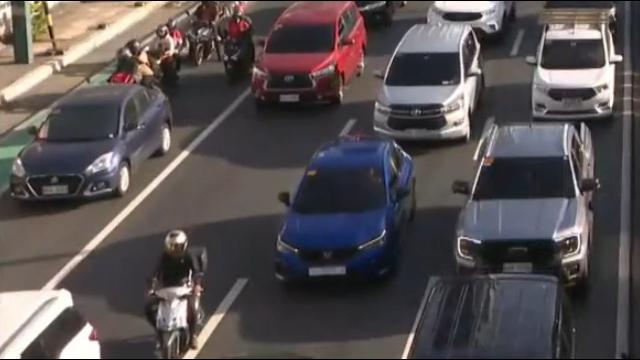car: (275, 137, 415, 295), (8, 82, 173, 204), (403, 276, 579, 360), (370, 22, 485, 144), (251, 0, 368, 113), (525, 10, 623, 125), (0, 283, 105, 360), (422, 0, 518, 41), (348, 0, 407, 22)
motorcycle: (145, 229, 208, 359), (101, 36, 151, 87), (149, 19, 184, 89), (189, 0, 223, 69), (221, 1, 251, 76)
pickup-truck: (452, 117, 602, 282)
